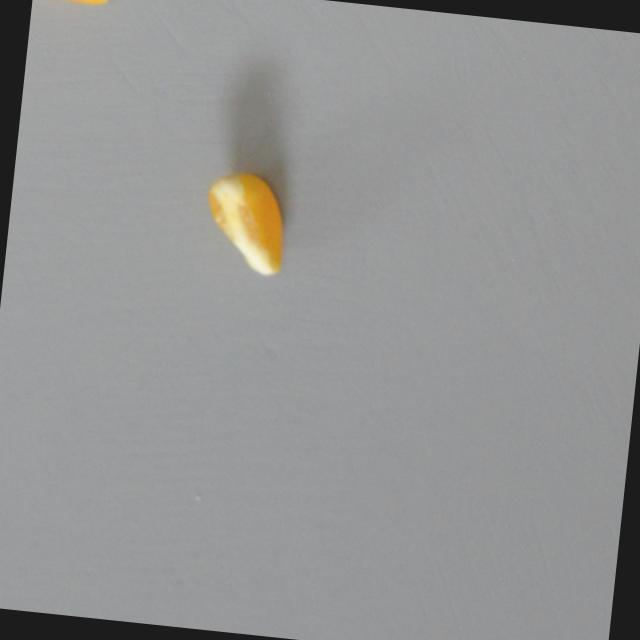dañado: (189, 159, 301, 289), (31, 0, 123, 20)
